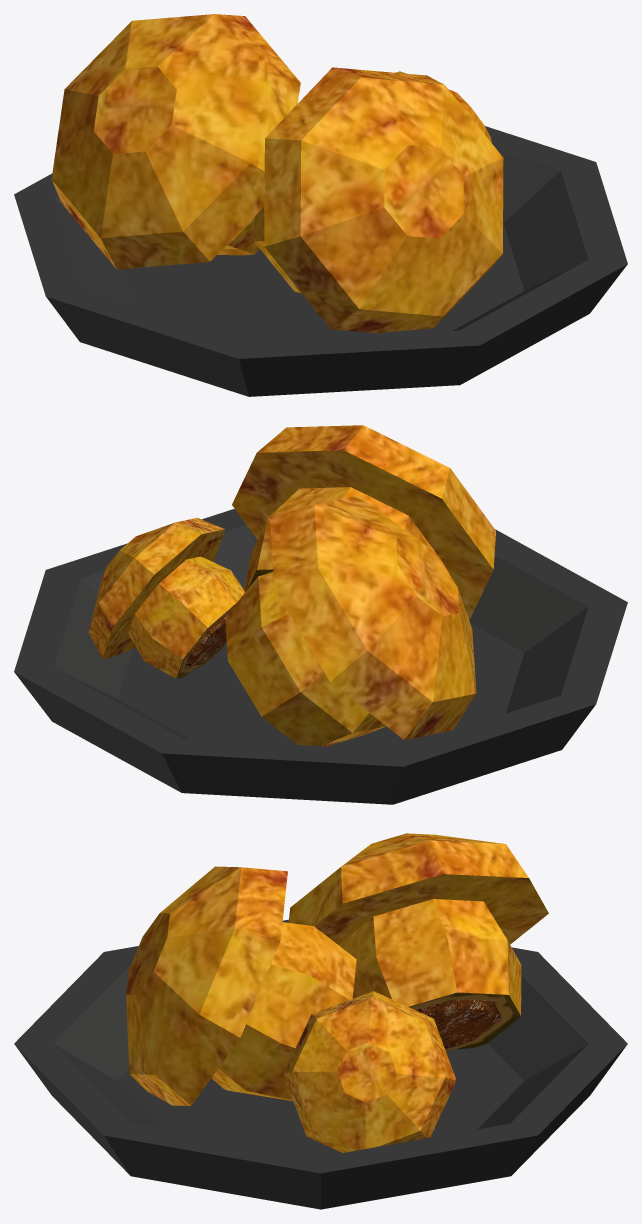
The model's file is stuffed mushroom poppers.fbx.
3 views of the same model, one above another, from view 1: azimuth 30°, elevation 25°; view 2: azimuth 150°, elevation 25°; view 3: azimuth 270°, elevation 25° (orthographic). The views are drawn at different scales.
Parts seen in each view (by area): view 1: plate; view 2: plate; view 3: plate.
Part boxes in pixels (bbox=[...]): plate: bbox=[14, 14, 627, 396]; plate: bbox=[14, 425, 627, 804]; plate: bbox=[14, 833, 627, 1209].
Size of the model in its own units: 302 by 134 by 302.
